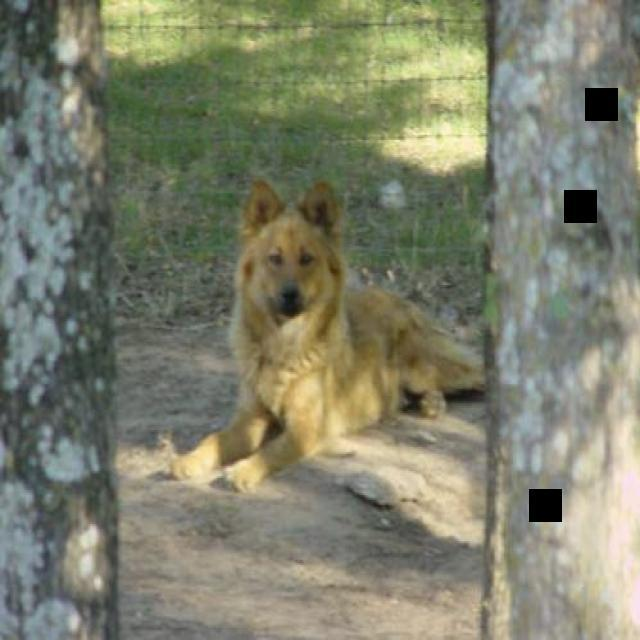adult_dog: (158, 174, 487, 491)
